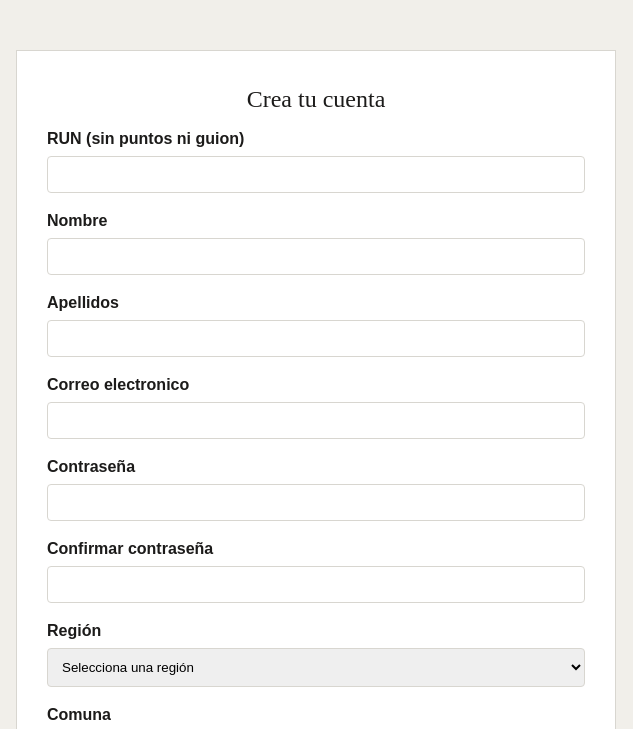
it: Registro › rechaza una contraseña demasiado larga
Type "12345678901" into the password field labelled "Contraseña". click: point(316, 502)
box: 47,484 -> 585,521
(page scrolled)
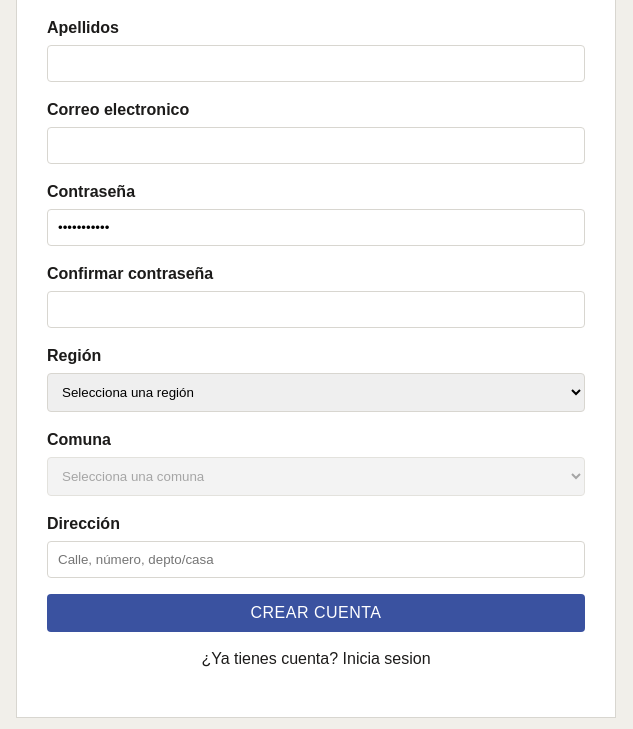
Click the button "Crear cuenta". click: point(316, 613)
box: 47,594 -> 585,632
(page scrolled)
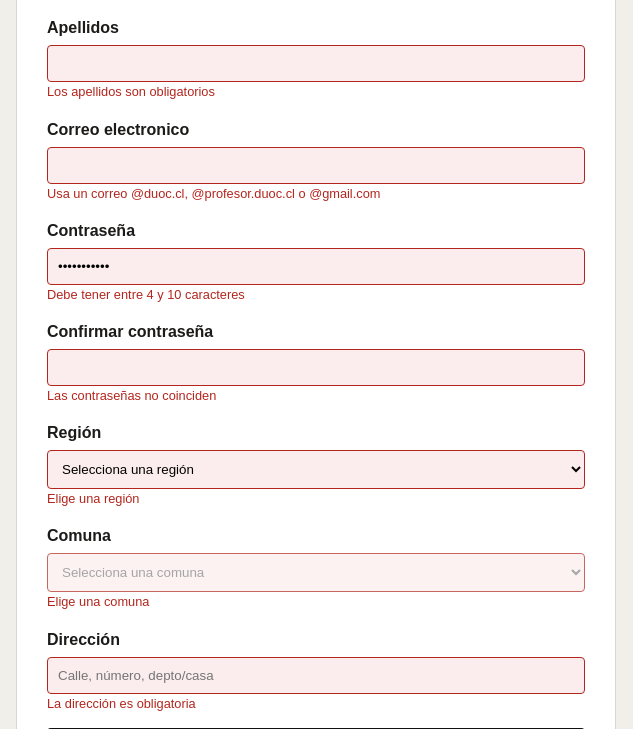
Now the text "Debe tener entre 4 y 10 caracteres" is shown, box 47,287 -> 245,302
